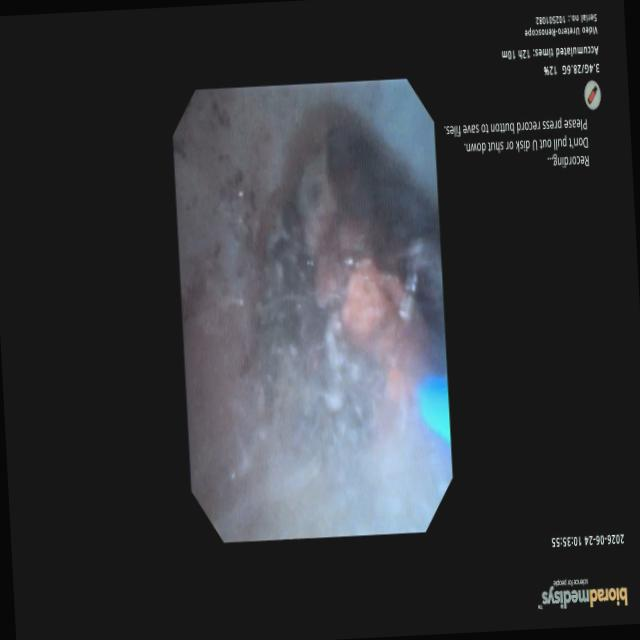stone-new: (254, 130, 447, 490)
